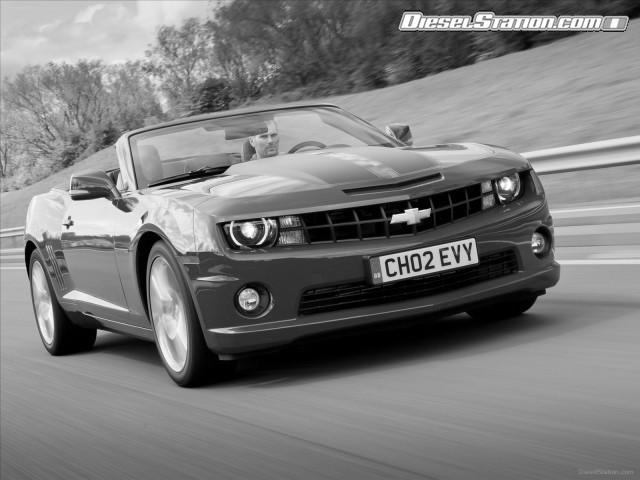car: (24, 103, 561, 387)
